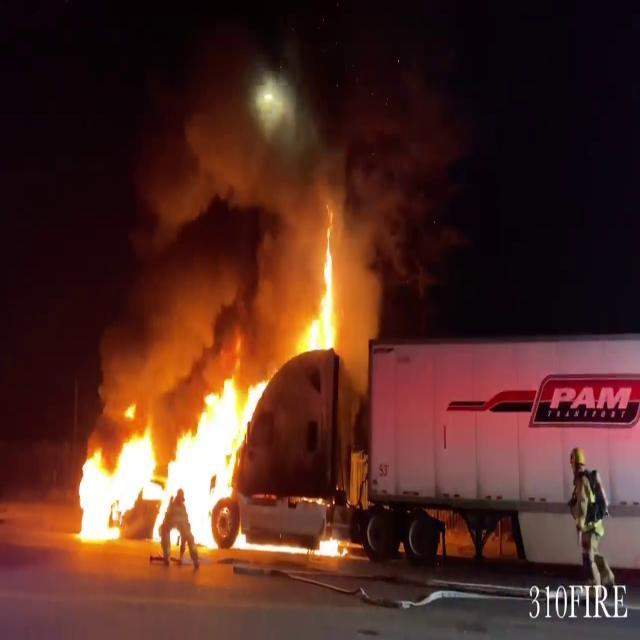Fire: (65, 347, 266, 553), (295, 218, 349, 364)
Smoke: (86, 0, 414, 352)
